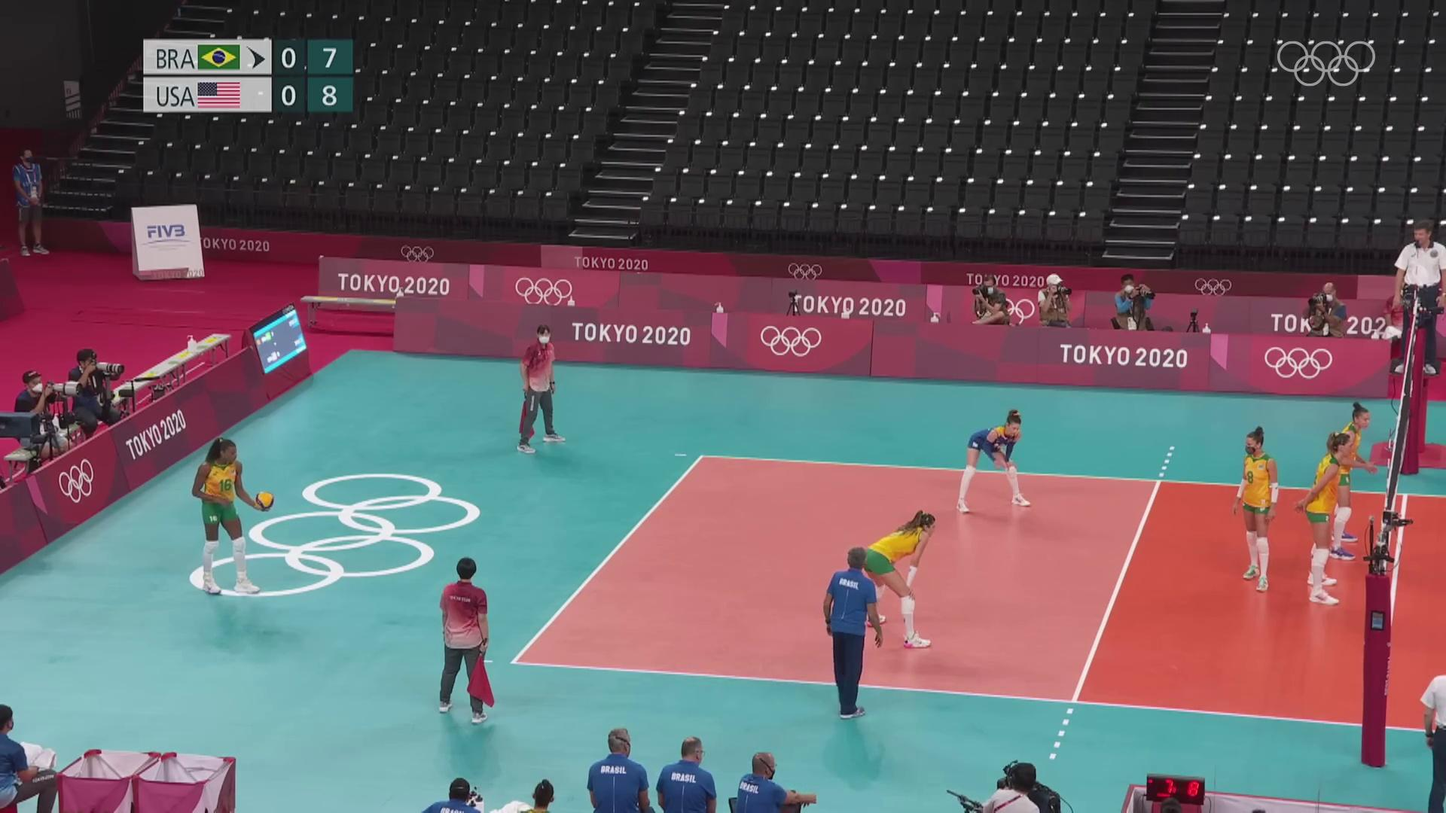player: (192, 438, 271, 595), (861, 511, 936, 648), (1298, 434, 1355, 607), (957, 408, 1032, 514), (1321, 403, 1370, 563), (1233, 427, 1281, 590)
refree: (437, 559, 497, 719), (1397, 220, 1446, 375), (516, 327, 563, 451), (1409, 658, 1446, 810)
